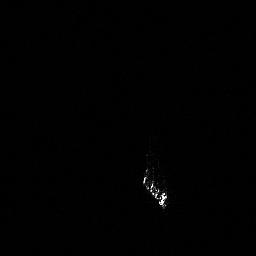ship: (140, 171, 171, 210)
